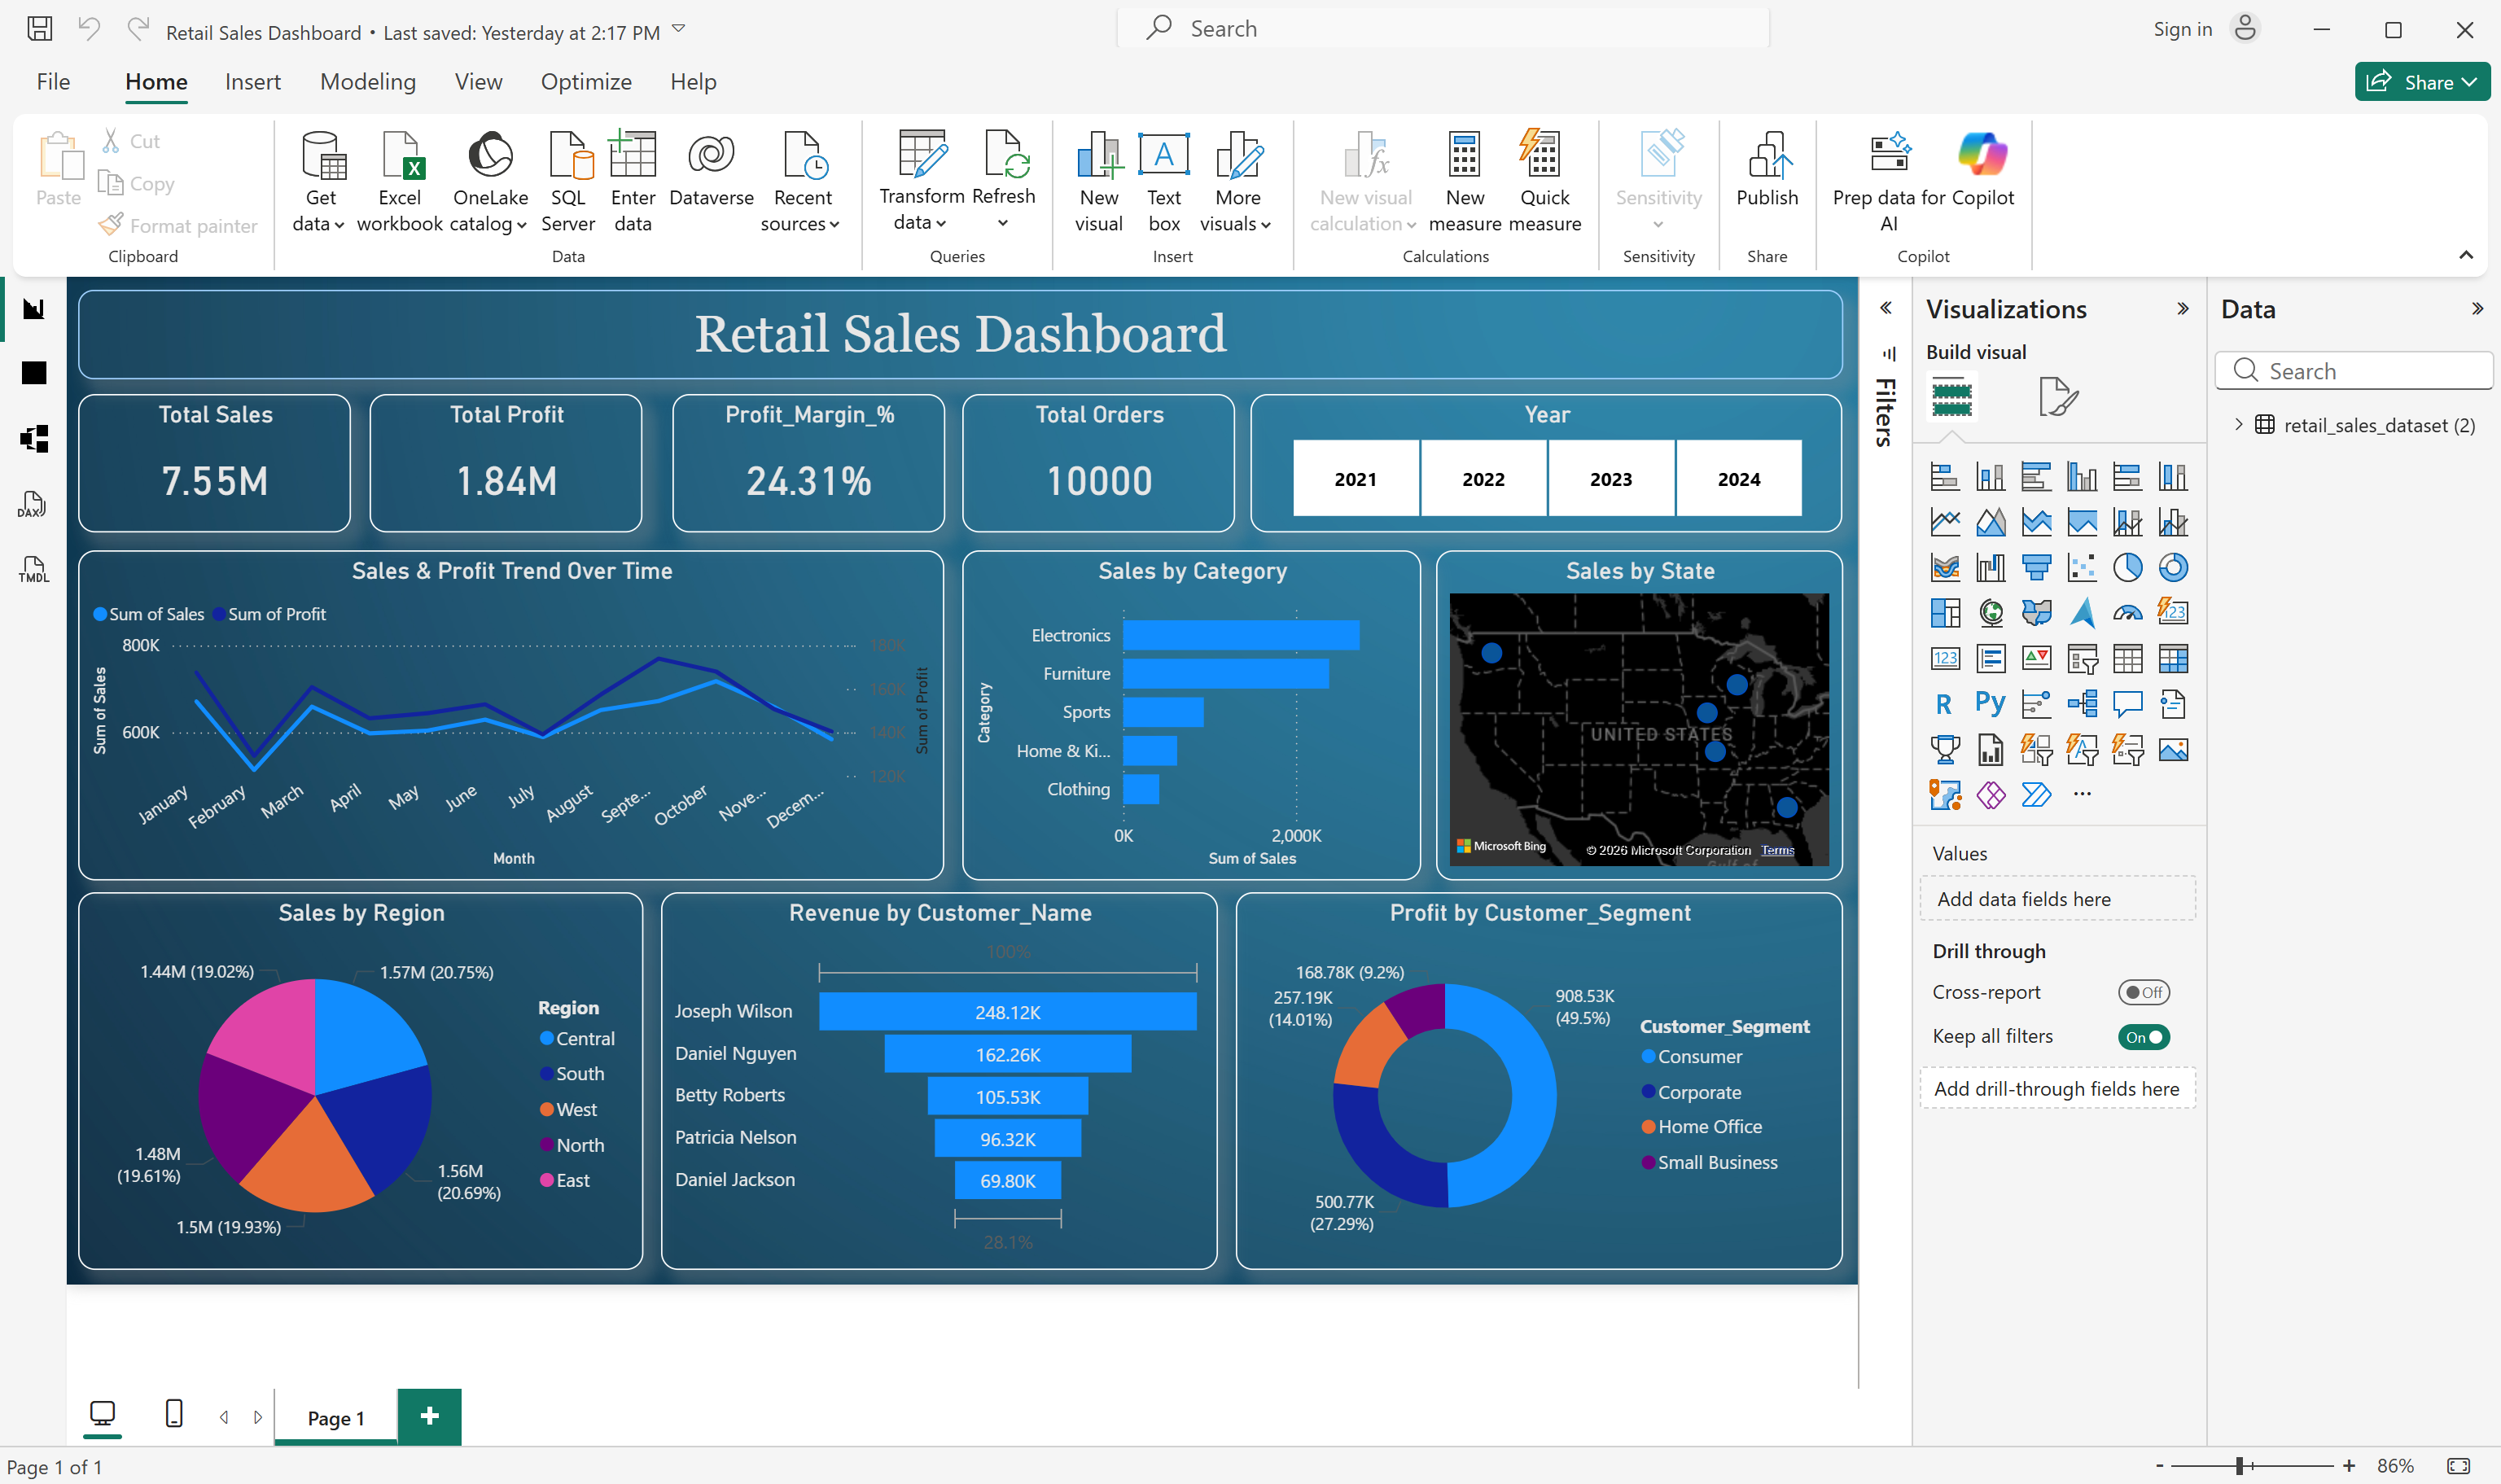

The page's visual inventory and layout, read from the dashboard file:
{"tool":"powerbi","page":{"name":"Page 1","canvas":[1280,720],"ordinal":0},"visuals":[{"type":"textbox","box":[8.1,9.3,1261.4,64],"z":0},{"type":"card","title":"Total Sales","fields":{"Values":["Sum(retail_sales_dataset (2).Sales)"]},"box":[8.2,83.8,195,98.9],"z":1000},{"type":"card","title":"Total Profit","fields":{"Values":["Sum(retail_sales_dataset (2).Profit)"]},"box":[217,83.8,195,98.9],"z":2000},{"type":"card","title":"Profit_Margin_%","fields":{"Values":["retail_sales_dataset (2).Profit Margin %"]},"box":[432.6,83.8,195,98.9],"z":3000},{"type":"card","title":"Total Orders","fields":{"Values":["Count(retail_sales_dataset (2).Order_ID)"]},"box":[640,83.8,195,98.9],"z":4000},{"type":"lineChart","title":"Sales & Profit Trend Over Time","fields":{"Category":["retail_sales_dataset (2).Order_Date.Variation.Date Hierarchy.Month"],"Y":["Sum(retail_sales_dataset (2).Sales)"],"Y2":["Sum(retail_sales_dataset (2).Profit)"]},"box":[8.1,195.5,619.1,236.2],"z":5000},{"type":"barChart","title":"Sales by Category","fields":{"Category":["retail_sales_dataset (2).Category"],"Y":["Sum(retail_sales_dataset (2).Sales)"]},"box":[640,195.5,328.1,236.2],"z":6000},{"type":"map","title":" Sales by State","fields":{"Category":["retail_sales_dataset (2).State"],"Size":["Sum(retail_sales_dataset (2).Sales)"]},"box":[978.6,195.5,290.9,236.2],"z":7000},{"type":"donutChart","title":"Profit by Customer_Segment","fields":{"Category":["retail_sales_dataset (2).Customer_Segment"],"Y":["Sum(retail_sales_dataset (2).Profit)"]},"box":[835.5,439.9,434,270],"z":8000},{"type":"pieChart","title":"Sales by Region","fields":{"Category":["retail_sales_dataset (2).Region"],"Y":["Sum(retail_sales_dataset (2).Sales)"]},"box":[8.1,439.9,403.8,270],"z":9000},{"type":"funnel","title":"Revenue by Customer_Name","fields":{"Category":["retail_sales_dataset (2).Customer_Name"],"Y":["Sum(retail_sales_dataset (2).Revenue)"]},"box":[424.7,439.9,398,270],"z":10000},{"type":"slicer","title":"Year","fields":{"Values":["retail_sales_dataset (2).Order_Date.Variation.Date Hierarchy.Year"]},"box":[846,83.8,423,98.9],"z":11000}]}

Visuals, with their boxes on the page's 1280x720 design canvas (x1, y1, x2, y2). These are canvas units, not pixel positions in the 2501x1484 screenshot, which may show the page scaled, cropped or inside an application window:
textbox: rect(8, 9, 1270, 73)
"Total Sales" card: rect(8, 84, 203, 183)
"Total Profit" card: rect(217, 84, 412, 183)
"Profit_Margin_%" card: rect(433, 84, 628, 183)
"Total Orders" card: rect(640, 84, 835, 183)
"Sales & Profit Trend Over Time" lineChart: rect(8, 196, 627, 432)
"Sales by Category" barChart: rect(640, 196, 968, 432)
" Sales by State" map: rect(979, 196, 1270, 432)
"Profit by Customer_Segment" donutChart: rect(836, 440, 1270, 710)
"Sales by Region" pieChart: rect(8, 440, 412, 710)
"Revenue by Customer_Name" funnel: rect(425, 440, 823, 710)
"Year" slicer: rect(846, 84, 1269, 183)
